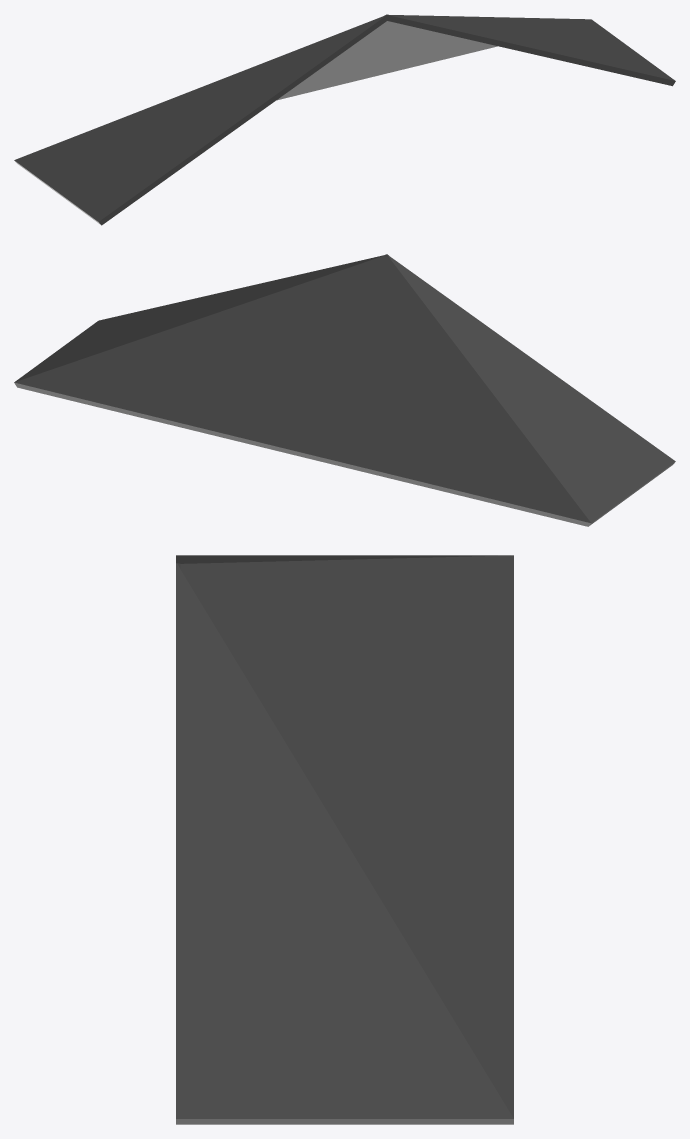
The model's file is Roof5_C3_02.fbx.
3 renders of one model, top to bottom at view 1: azimuth 30°, elevation 25°; view 2: azimuth 150°, elevation 25°; view 3: azimuth 270°, elevation 25°, orthographic. The views are drawn at different scales.
Visible parts, largest first — view 1: Roof5_C3_02; view 2: Roof5_C3_02; view 3: Roof5_C3_02.
Part boxes in pixels (left/top/right/bottom): Roof5_C3_02: left=14, top=14, right=675, bottom=225; Roof5_C3_02: left=14, top=254, right=675, bottom=526; Roof5_C3_02: left=176, top=555, right=513, bottom=1124.
Size of the model in its own units: 1105 by 258 by 280.
